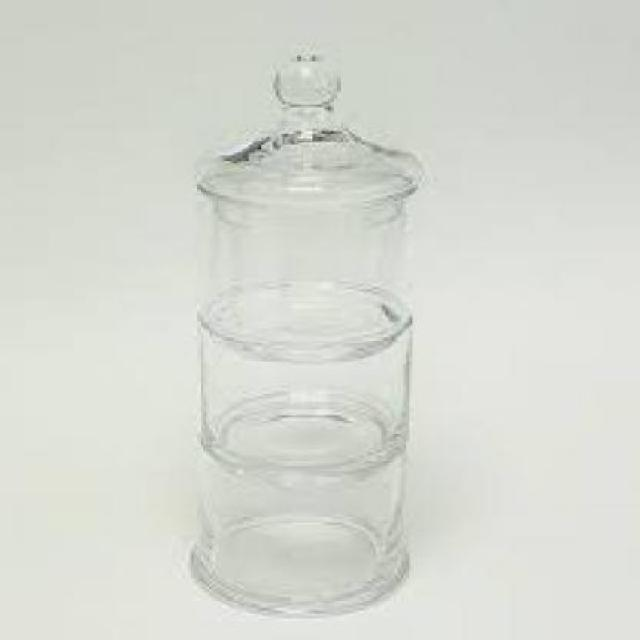GLASS: (190, 50, 424, 616)
